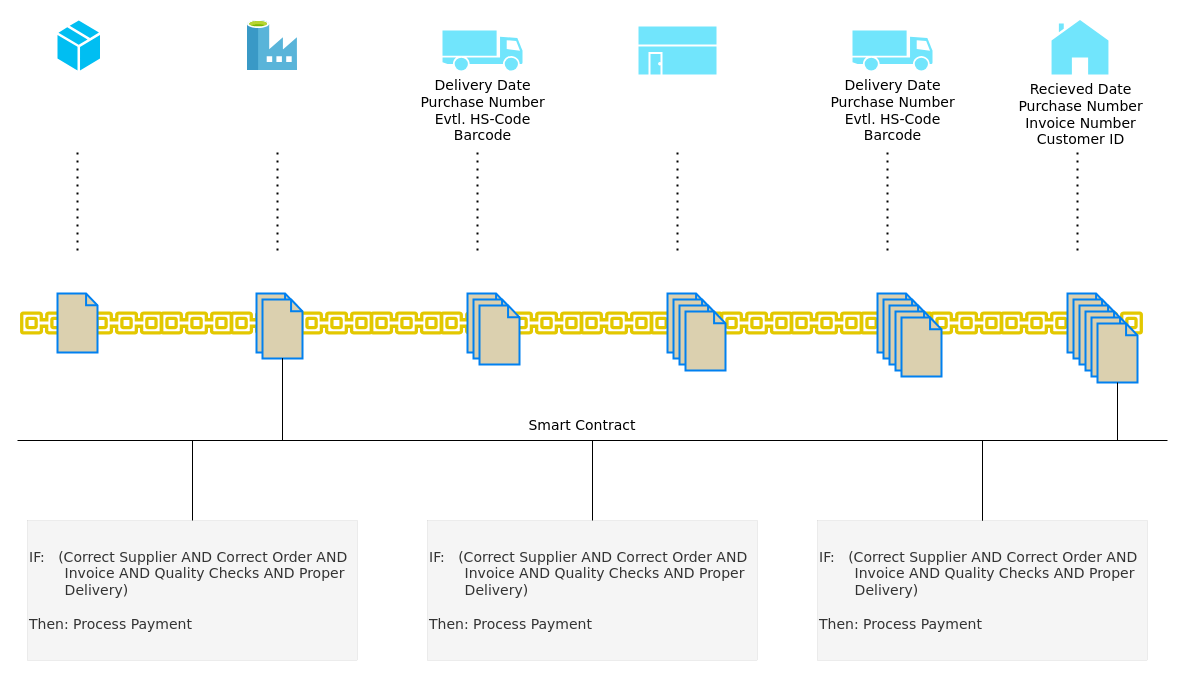
Some shapes in this 1187 by 678 pixel diagram are drawn without their labels. Each missing label, with the centre of its shape:
Certificate of Origin Batch number Other product data: (272,45)
Delivery Date Purchase Number Evtl. HS-Code: (78,45)
Recieved Date Pickup Date Packaging condition Barcode: (677,50)
